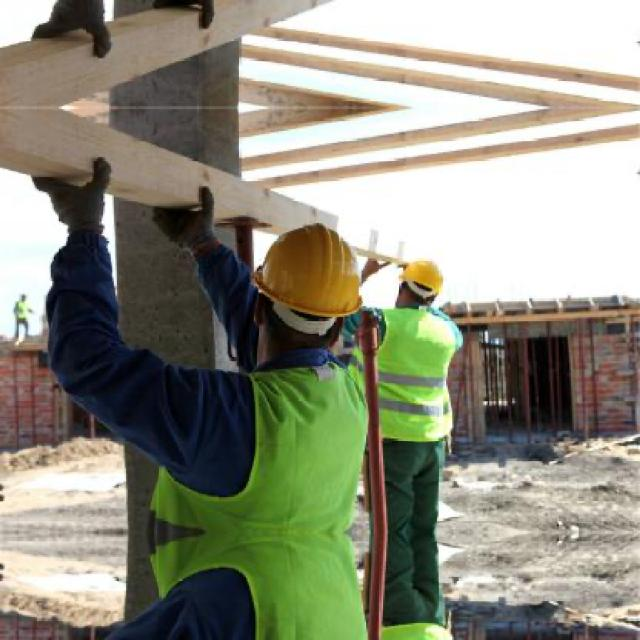helmet: (242, 215, 376, 343), (394, 250, 454, 312)
